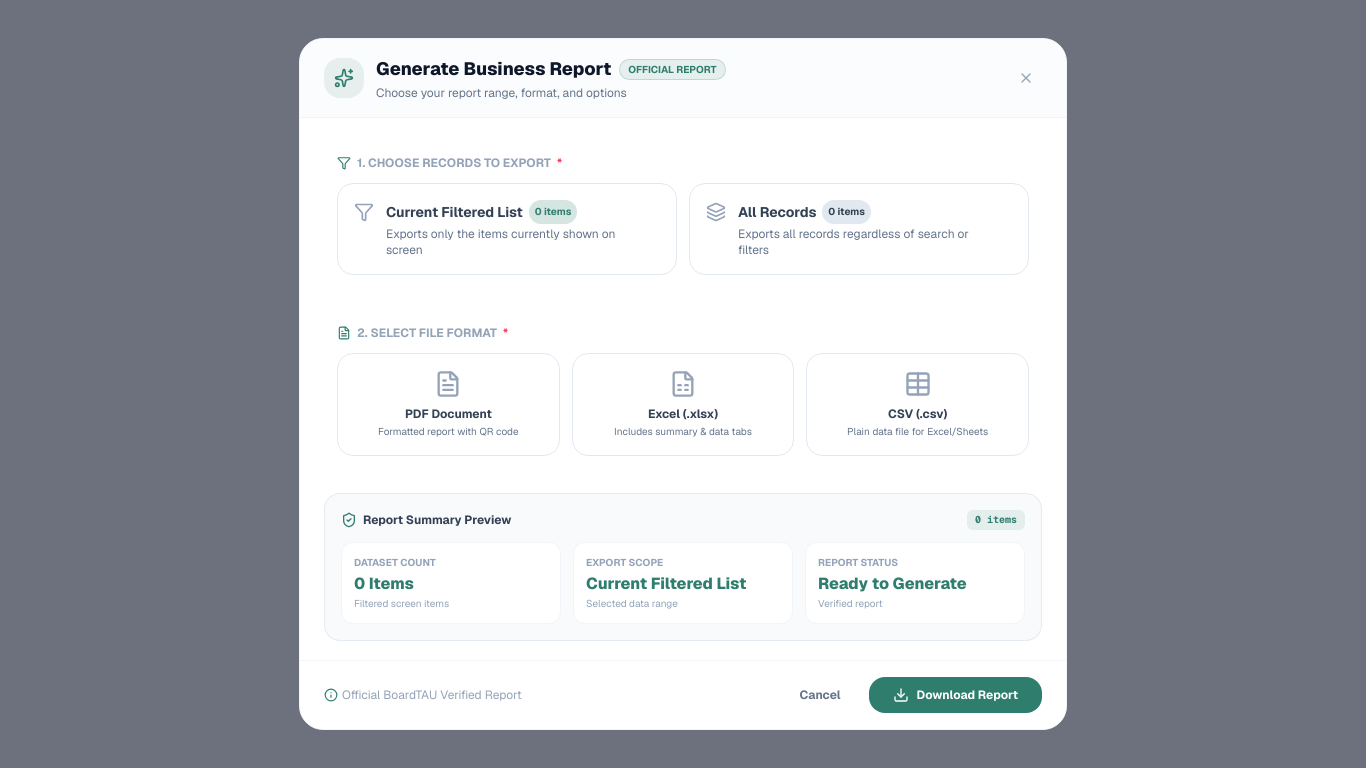
Test: ReportExportModal › shows required validation toast and error when downloading with no scope or format selected
Click the button "Download Report". click: (955, 695)
box: [869,677,1042,713]
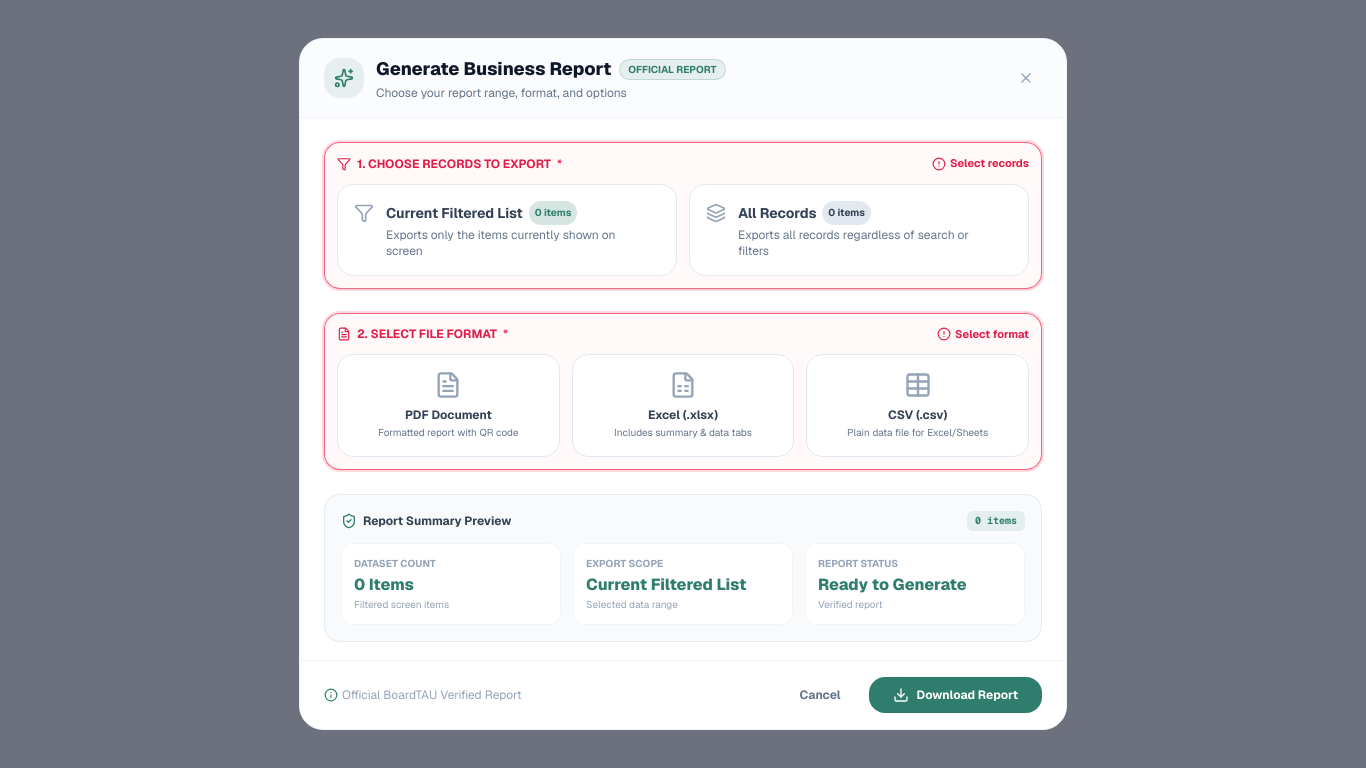
Check: the text "Select records" is shown, box [932,155,1029,172]
Check: the text "Select format" is shown, box [937,326,1029,342]
